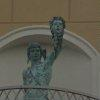Statue: (17, 11, 70, 85)
